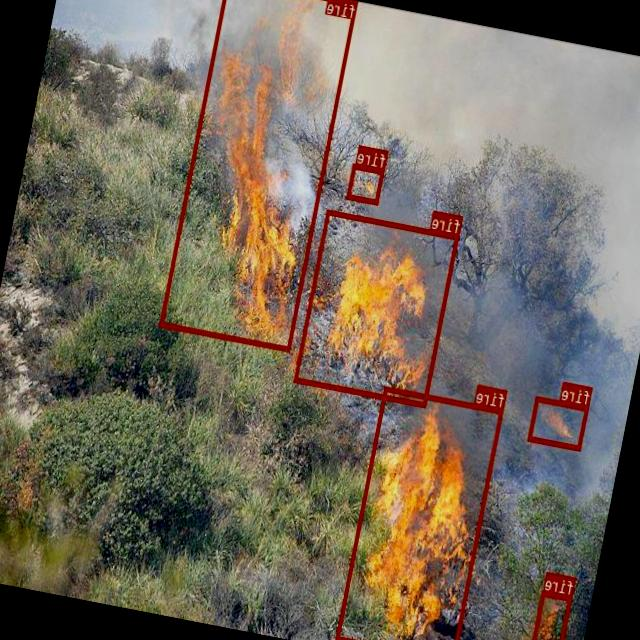fire: (160, 0, 358, 351), (336, 387, 504, 640), (294, 209, 460, 408), (528, 396, 590, 451), (527, 591, 572, 640), (348, 163, 386, 205)
